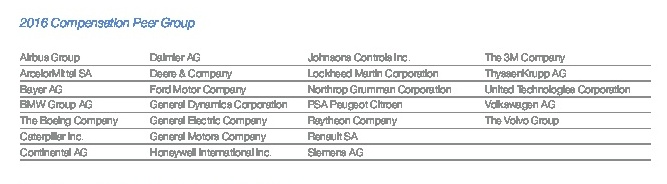table: (0, 0, 667, 184)
